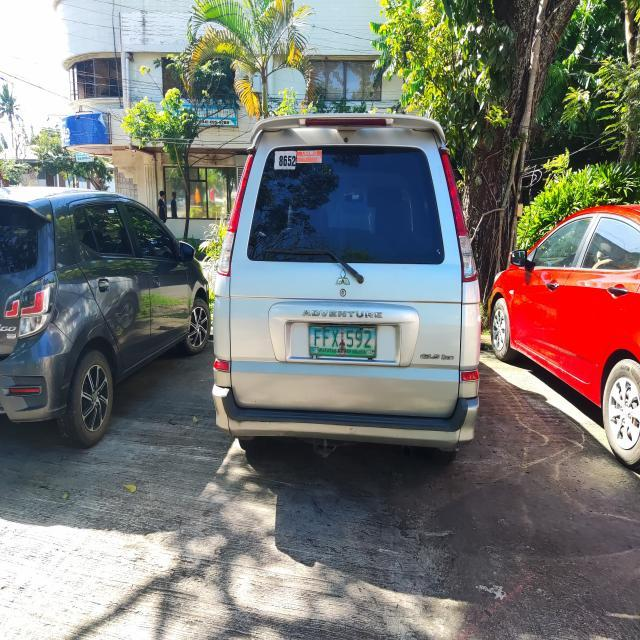LicensePlate: (303, 322, 388, 366)
